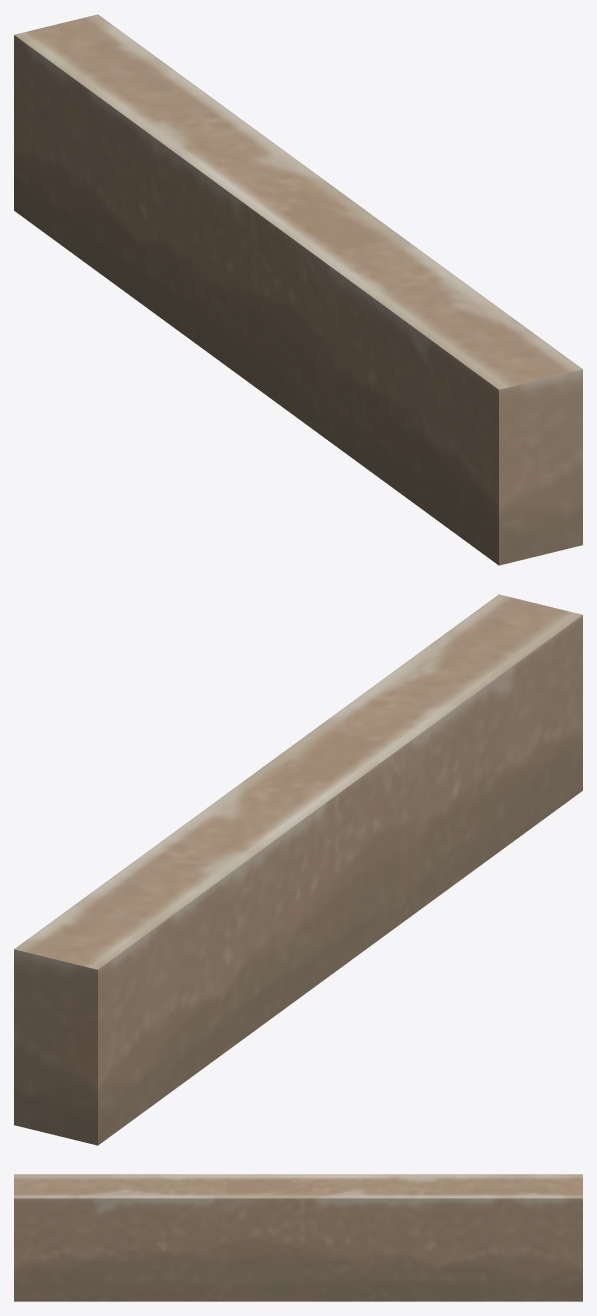
Rendered from railingEdge_1m.fbx.
3 views of the same model, one above another, from view 1: azimuth 30°, elevation 25°; view 2: azimuth 150°, elevation 25°; view 3: azimuth 270°, elevation 25° (orthographic). The views are drawn at different scales.
Parts seen in each view (by area): view 1: railingEdge_1m; view 2: railingEdge_1m; view 3: railingEdge_1m.
Part boxes in pixels (box(x1,y1,x2,y2)): railingEdge_1m: box(14, 14, 582, 565); railingEdge_1m: box(14, 594, 582, 1145); railingEdge_1m: box(14, 1174, 582, 1301).
Bounding box in the file's own units: 10 × 20 × 100.
